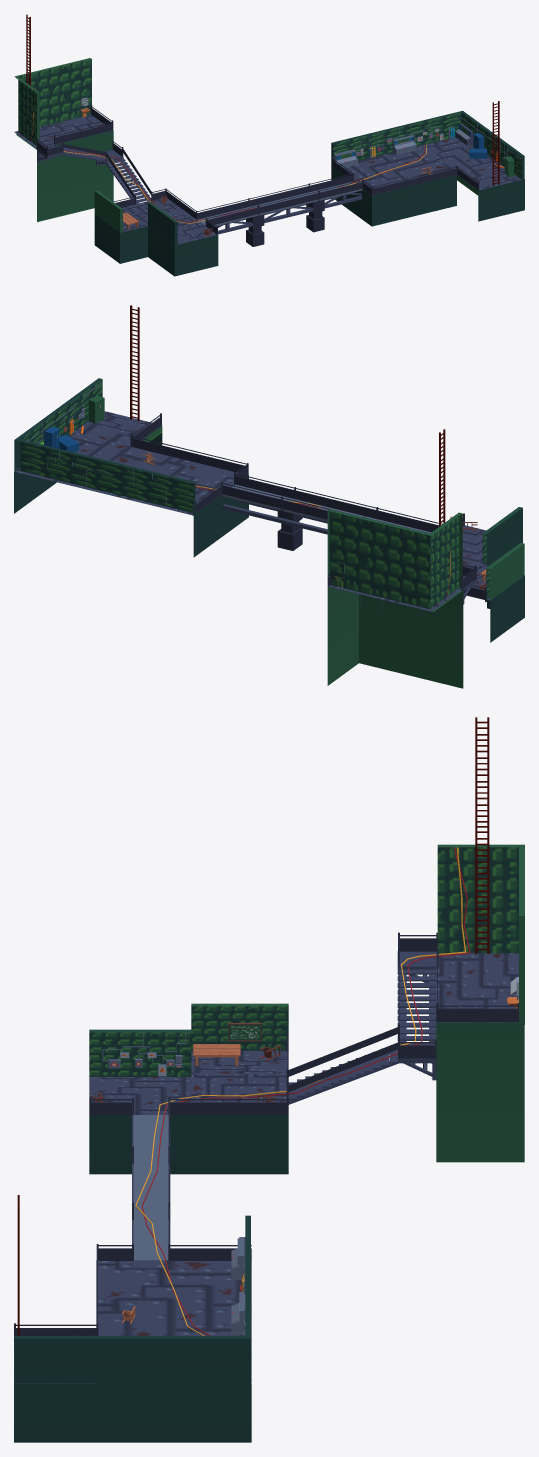
File: Bunker.fbx
3 renders of one model, top to bottom at view 1: azimuth 30°, elevation 25°; view 2: azimuth 150°, elevation 25°; view 3: azimuth 270°, elevation 25°, orthographic. The views are drawn at different scales.
Visible parts, largest first — view 1: Chao, Chao.002, Ponte, Chao.003, Chao.001, Grades, EscadasDegraus, Escada1, Painel2, FioVermelho, Painel3, Escada2; view 2: Chao, Chao.002, Chao.003, Chao.001, Ponte, Grades, Escada1, Escada2; view 3: Chao, Chao.002, Chao.001, Grades, Chao.003, Ponte, EscadasDegraus, Escada2, FioVermelho, FioAmarelo.
Part boxes in pixels (<box>): Chao: <box>94,137,524,276</box>; Chao.002: <box>14,115,113,221</box>; Ponte: <box>196,172,363,246</box>; Chao.003: <box>14,58,91,149</box>; Chao.001: <box>331,110,524,179</box>; Grades: <box>36,105,479,234</box>; EscadasDegraus: <box>37,145,151,203</box>; Escada1: <box>492,101,499,185</box>; Painel2: <box>392,135,416,154</box>; FioVermelho: <box>31,89,425,222</box>; Painel3: <box>333,149,357,167</box>; Escada2: <box>26,14,30,85</box>; Chao: <box>14,411,524,642</box>; Chao.002: <box>327,585,463,688</box>; Chao.003: <box>327,509,462,611</box>; Chao.001: <box>14,378,195,515</box>; Ponte: <box>221,472,442,550</box>; Grades: <box>130,413,486,601</box>; Escada1: <box>130,305,139,421</box>; Escada2: <box>439,429,445,526</box>; Chao: <box>14,1003,288,1442</box>; Chao.002: <box>436,953,524,1162</box>; Chao.001: <box>14,1215,250,1383</box>; Grades: <box>14,932,518,1340</box>; Chao.003: <box>437,844,524,1024</box>; Ponte: <box>132,1097,170,1260</box>; EscadasDegraus: <box>288,951,436,1104</box>; Escada2: <box>475,717,489,954</box>; FioVermelho: <box>141,847,470,1335</box>; FioAmarelo: <box>135,847,466,1335</box>.
Bounding box in the file's own units: 4938 × 3023 × 2461.
